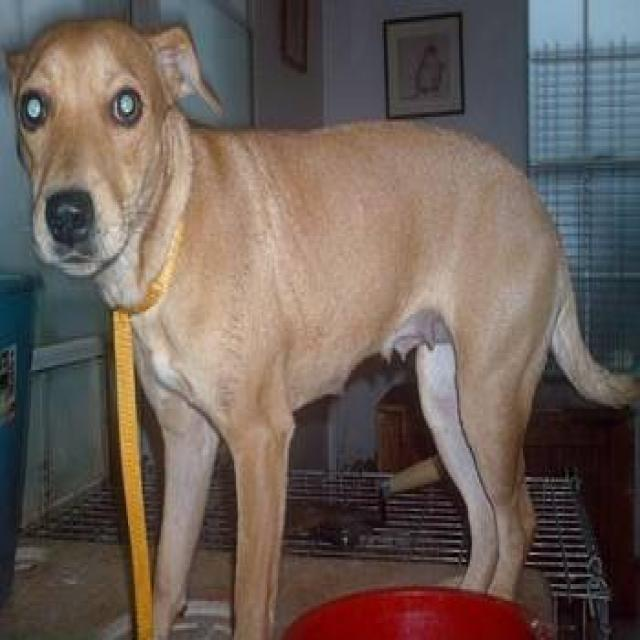dog: (4, 15, 638, 638)
